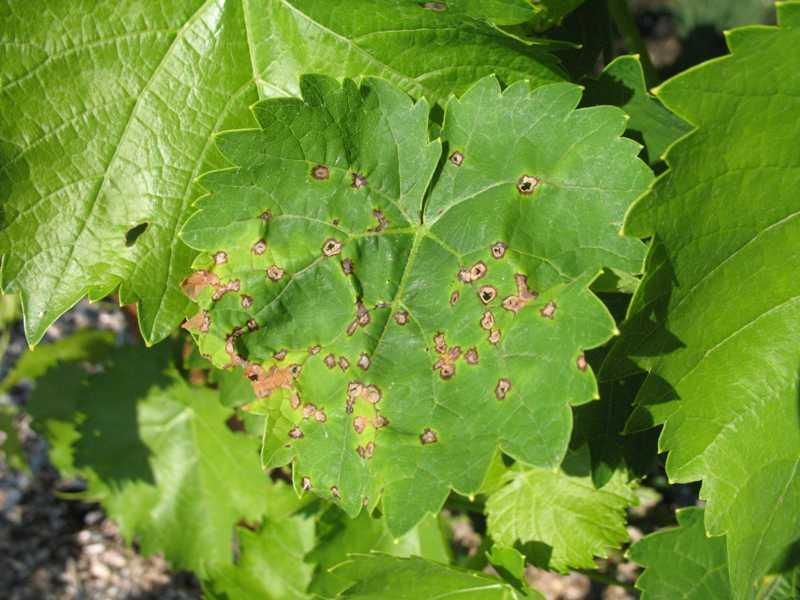grape leaf: (152, 71, 670, 534)
